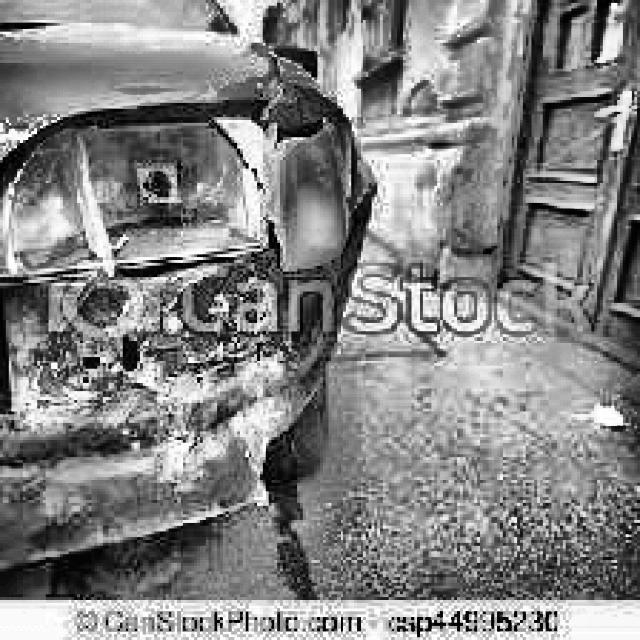head_lamp: (34, 135, 265, 260), (240, 120, 364, 293)
